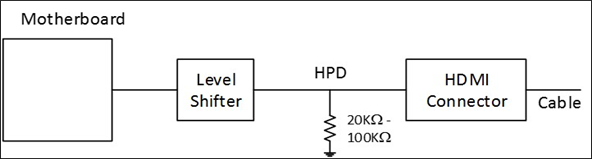ground: (322, 148, 339, 159)
rectangle: (2, 35, 116, 145), (405, 57, 529, 125), (174, 56, 257, 125)
resistor: (323, 107, 339, 143)
